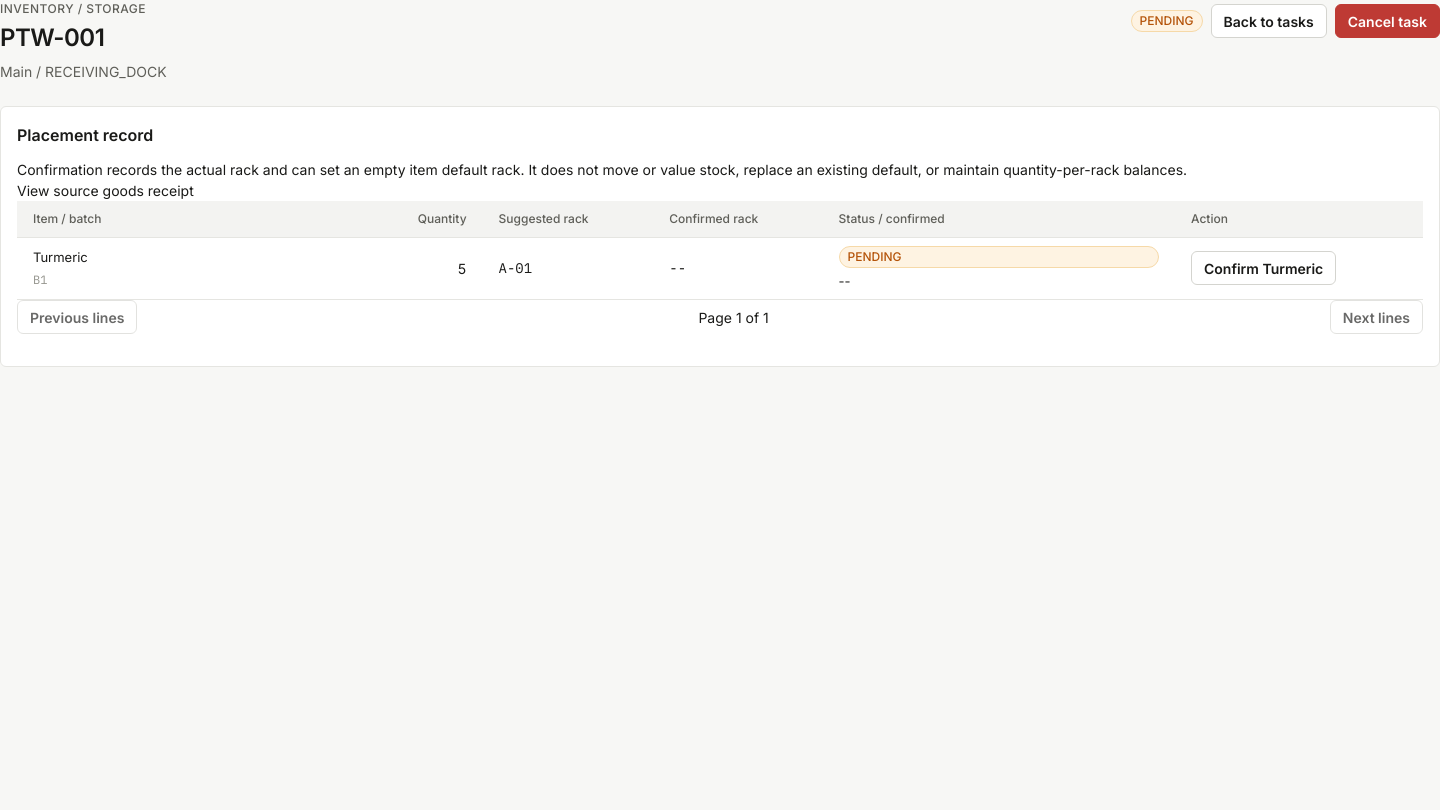
Test: does not confirm a cancelled task discovered during the preflight read
The width and height of the screenshot is (1440, 810).
Click the button "Confirm Turmeric": [1264, 268] box [1191,251,1336,285]
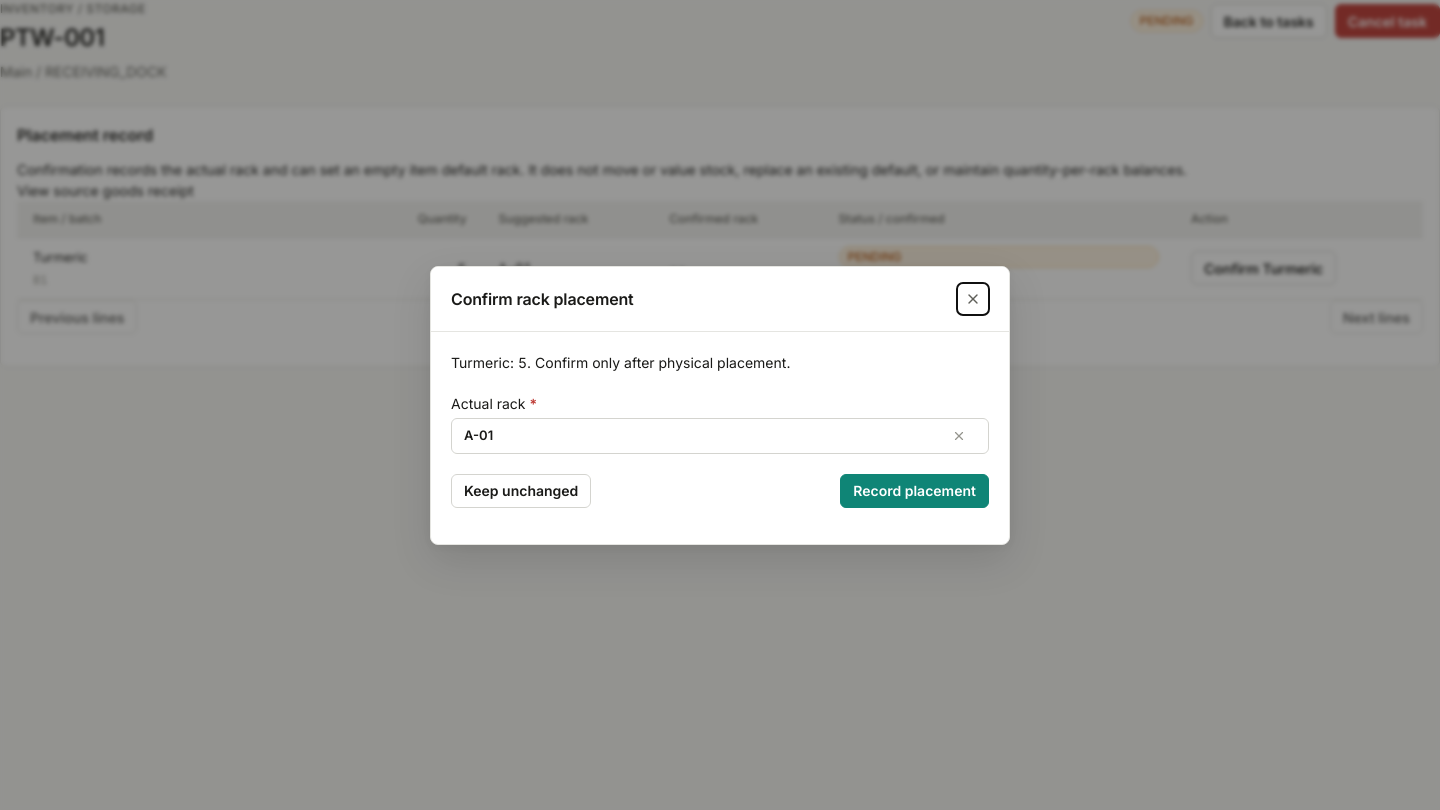
Check: the dialog is shown, box [430,266,1010,544]
Click the button "Record placement": [915, 490] box [840,474,989,508]
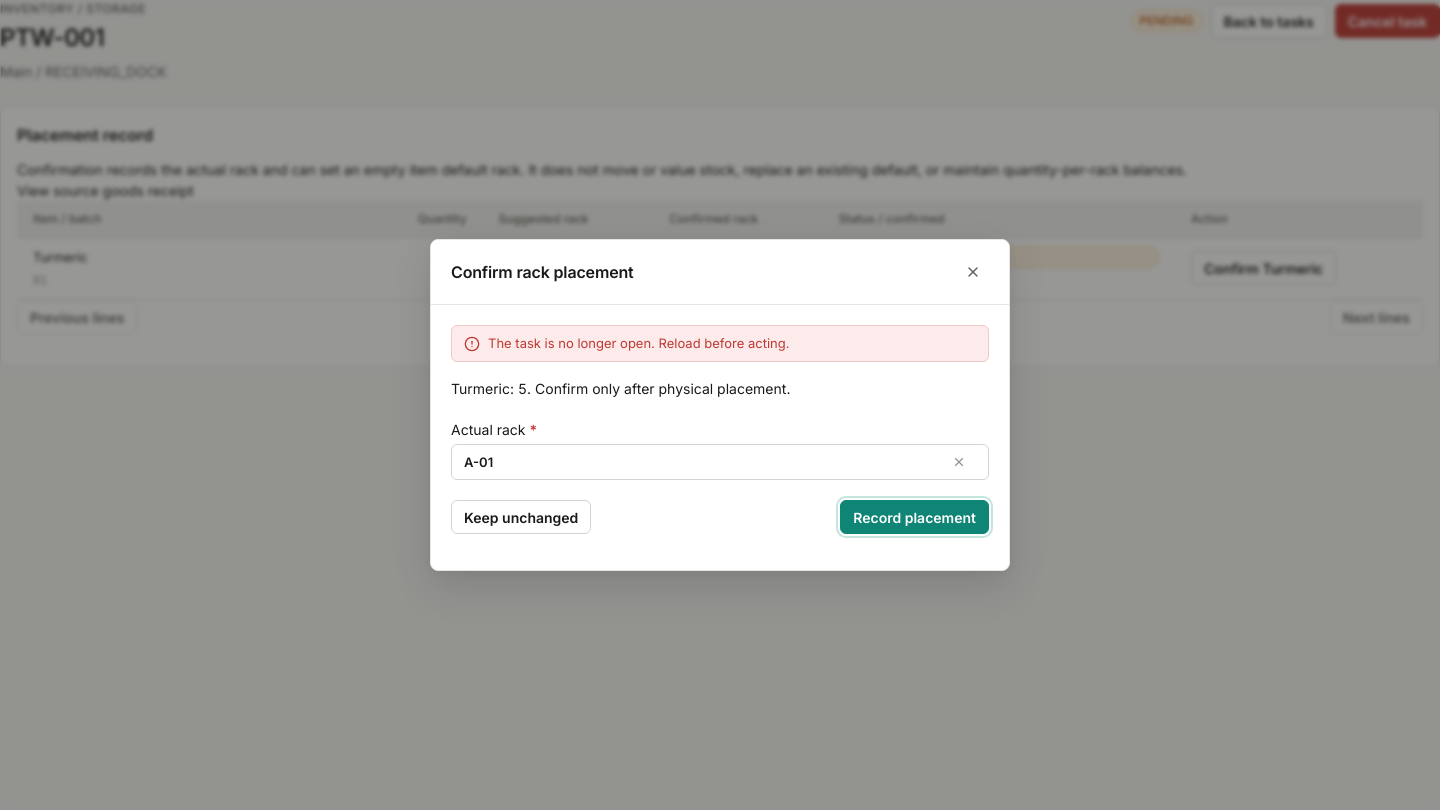
Check: the message shows "no longer open", box [488,335,790,351]
